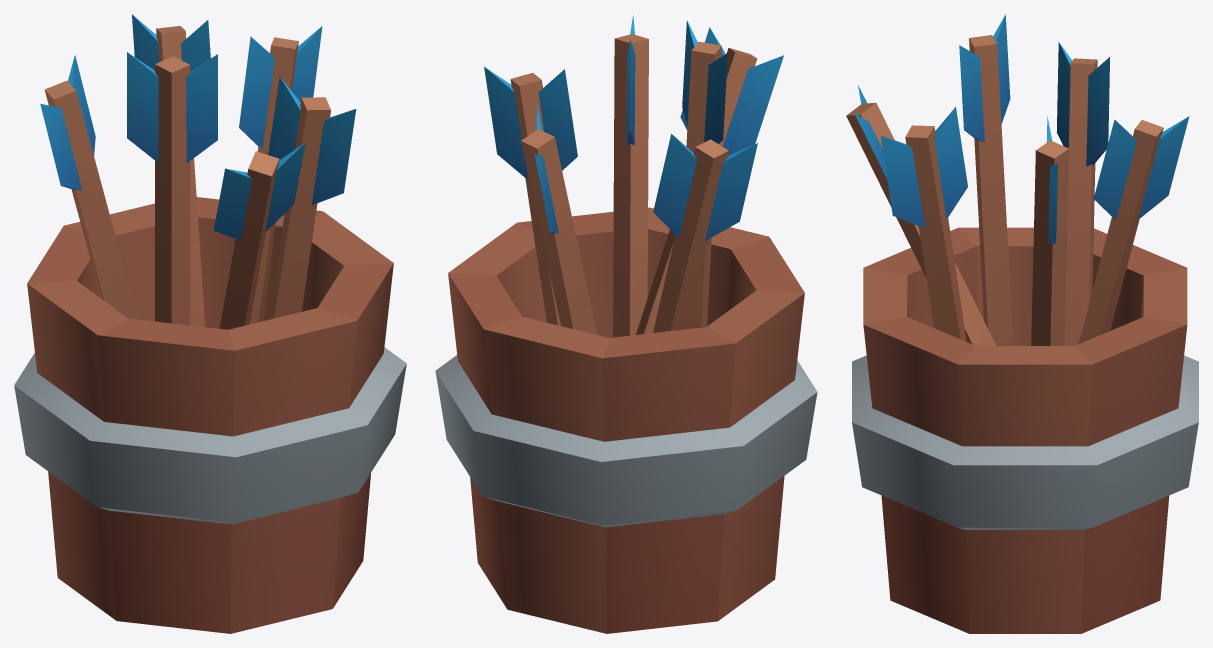
Rendered from d_kaykit_seau_fleches.glb.
3 views of the same model, side by side, from view 1: azimuth 30°, elevation 25°; view 2: azimuth 150°, elevation 25°; view 3: azimuth 270°, elevation 25° (orthographic). The views are drawn at different scales.
Parts seen in each view (by area): view 1: d_kaykit_seau_fleches; view 2: d_kaykit_seau_fleches; view 3: d_kaykit_seau_fleches.
Boxes of the visible parts, x1=… form: d_kaykit_seau_fleches: x1=14, y1=14, x2=406, y2=633; d_kaykit_seau_fleches: x1=435, y1=15, x2=817, y2=633; d_kaykit_seau_fleches: x1=846, y1=14, x2=1198, y2=633.
Bounding box in the file's own units: 0.14 × 0.2313 × 0.1423.
1 material, 1 textured.
